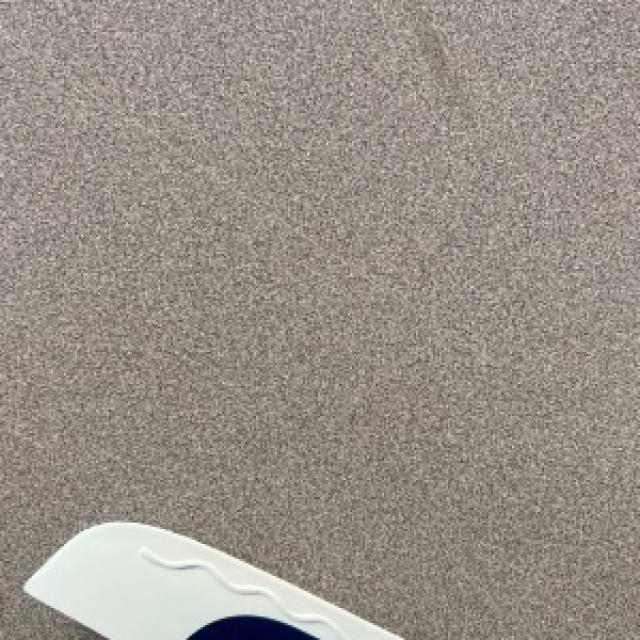healthy: (23, 523, 401, 638)
